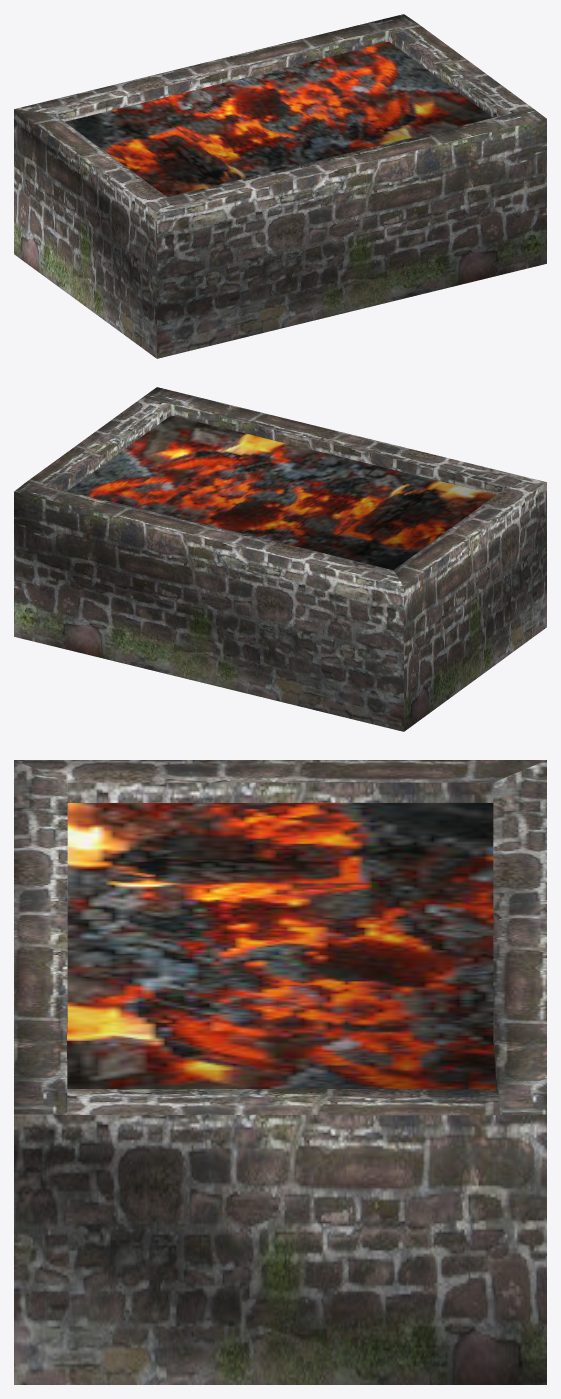
Rendered from blacksmith_fire.dae.
3 renders of one model, top to bottom at view 1: azimuth 30°, elevation 25°; view 2: azimuth 150°, elevation 25°; view 3: azimuth 270°, elevation 25°, orthographic. The views are drawn at different scales.
Parts seen in each view (by area): view 1: meshU3D; view 2: meshU3D; view 3: meshU3D.
Part boxes in pixels (x1=…): meshU3D: x1=14, y1=14, x2=546, y2=358; meshU3D: x1=14, y1=387, x2=546, y2=731; meshU3D: x1=14, y1=760, x2=546, y2=1384.
Size of the model in its own units: 67.22 by 23.84 by 42.61.
Materials: 1 (1 with a texture image).
